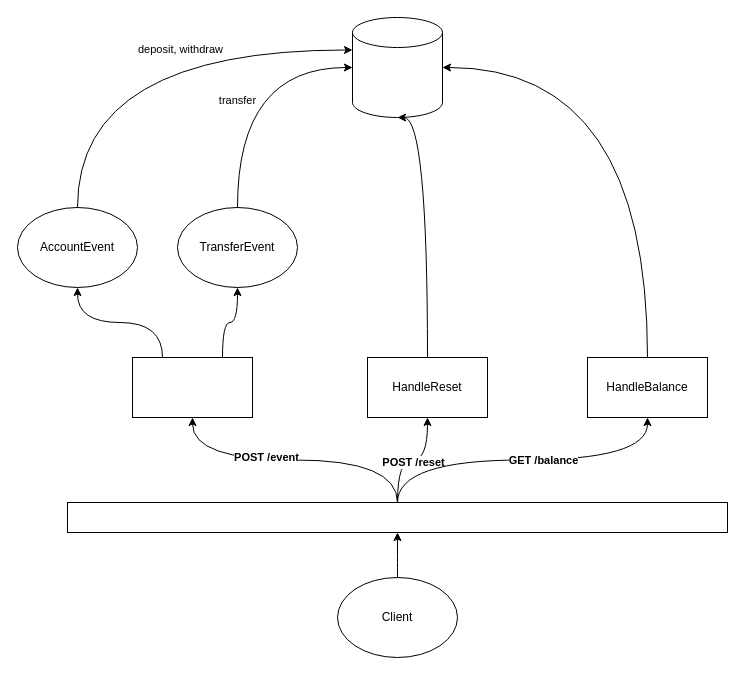
Some shapes in this 745 by 675 pixel diagram are drawn without their labels. The box of each missing label's shape, as (x1, y1, x2, y2) in pixels:
API: (66, 502, 728, 532)
HandleEvent: (132, 356, 252, 418)
MySQL: (352, 16, 442, 118)
